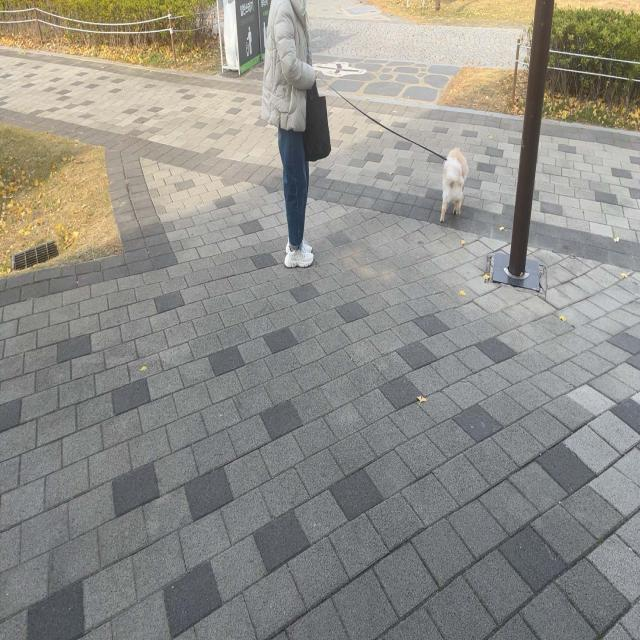Leashed_Dog: (285, 71, 468, 223)
